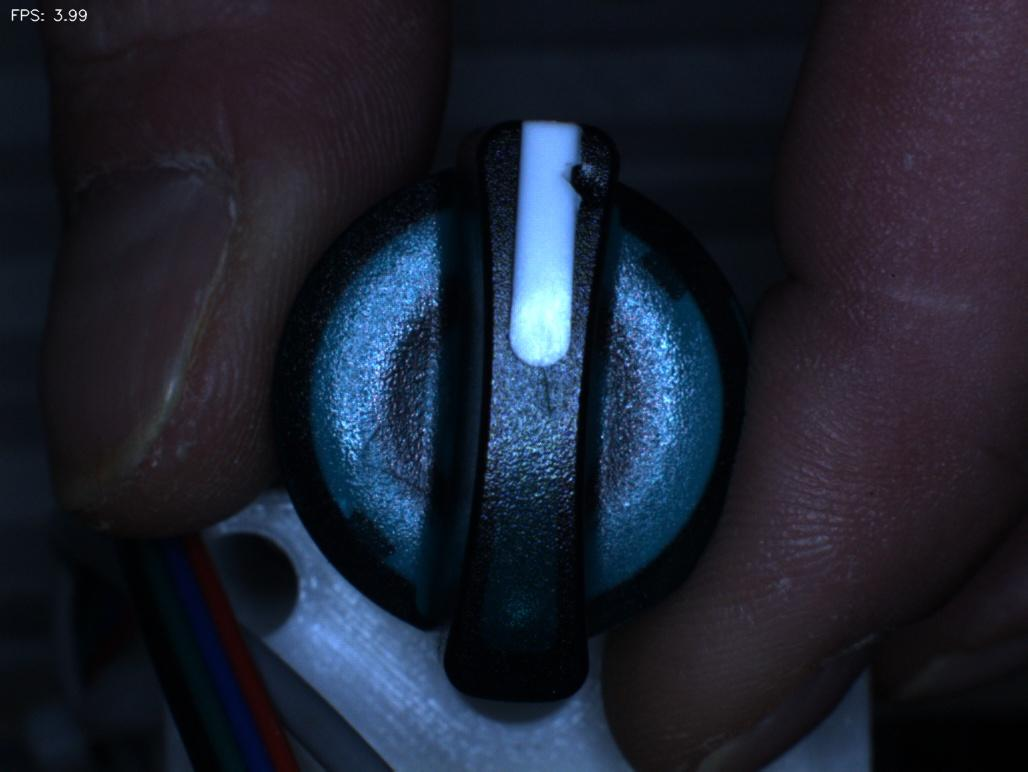Choc: (544, 123, 633, 233)
